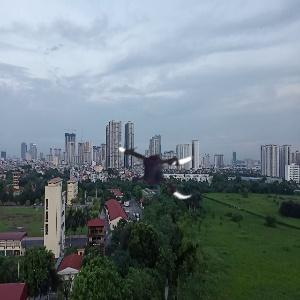drone: (116, 121, 208, 213)
